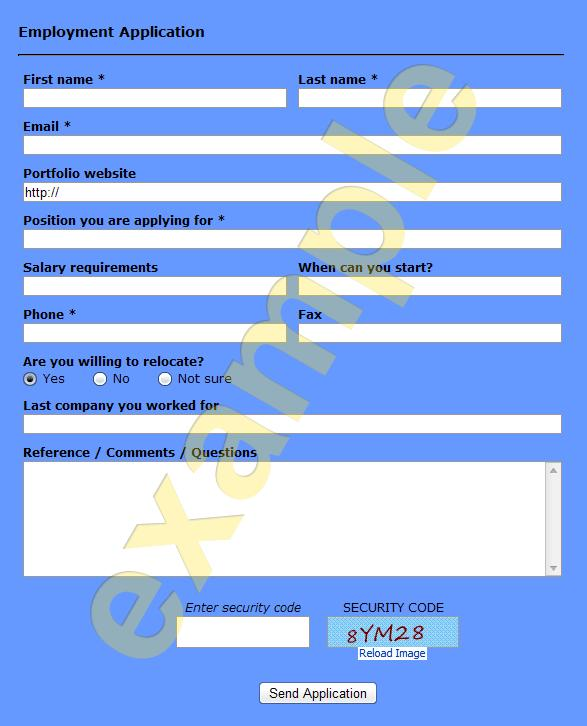button: (251, 668, 398, 715)
radiobutton: (145, 370, 238, 394), (24, 366, 70, 388), (83, 371, 135, 389)
textbox: (15, 456, 581, 601), (23, 83, 292, 113)
